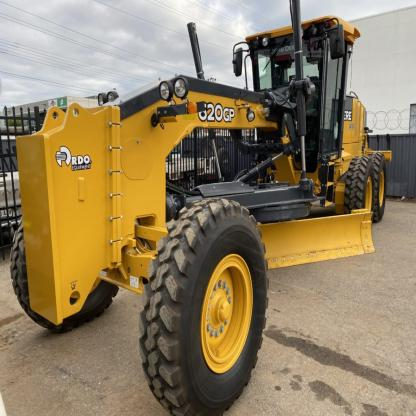bull_dozer/loader/grader: (13, 15, 389, 404)
